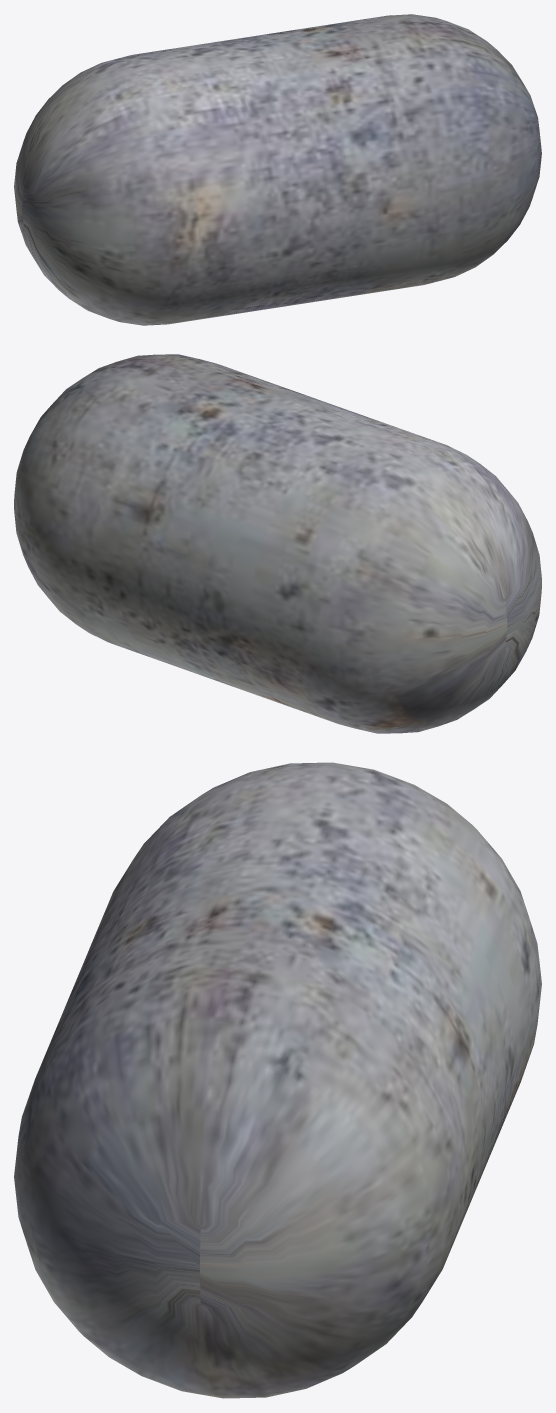
The model's file is Fender_Rear_Left.fbx.
3 renders of one model, top to bottom at view 1: azimuth 30°, elevation 25°; view 2: azimuth 150°, elevation 25°; view 3: azimuth 270°, elevation 25°, orthographic. The views are drawn at different scales.
Visible parts, largest first — view 1: Fender_Rear_Left; view 2: Fender_Rear_Left; view 3: Fender_Rear_Left.
Part boxes in pixels (left/top/right/bottom): Fender_Rear_Left: left=14, top=14, right=541, bottom=325; Fender_Rear_Left: left=14, top=354, right=541, bottom=733; Fender_Rear_Left: left=14, top=762, right=541, bottom=1398.
Size of the model in its own units: 1.14 by 0.5743 by 0.6736.
